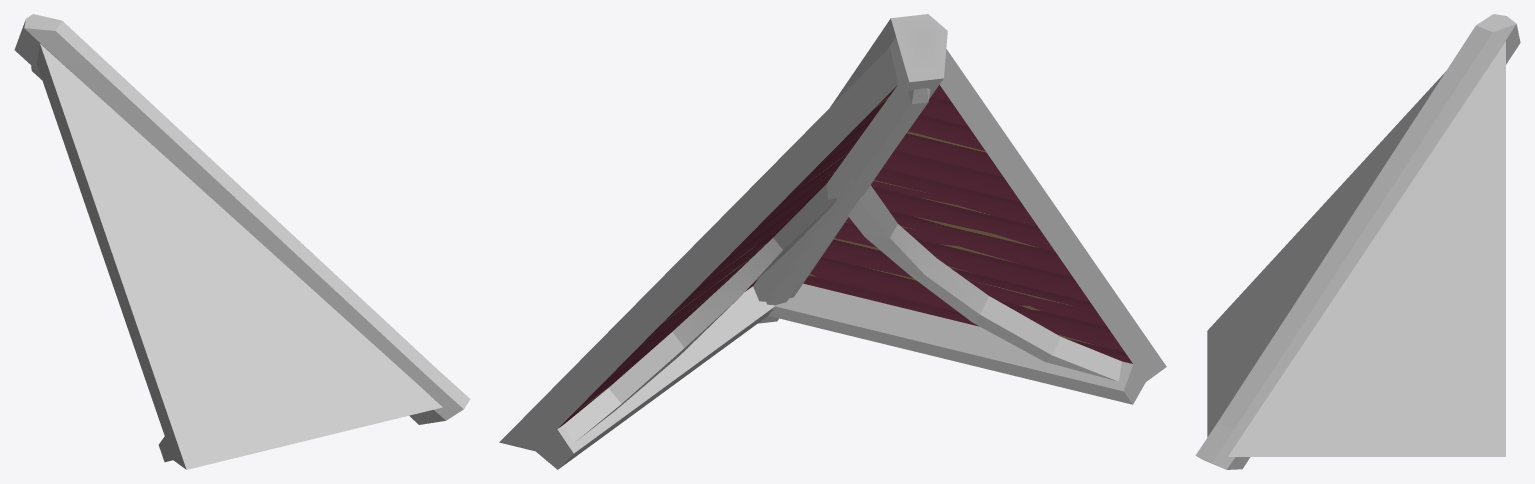
The model's file is SM_Bld_Roof_Straight_Corner_Out_01.fbx.
3 renders of one model, left to right at view 1: azimuth 30°, elevation 25°; view 2: azimuth 150°, elevation 25°; view 3: azimuth 270°, elevation 25°, orthographic. The views are drawn at different scales.
Visible parts, largest first — view 1: SM_Bld_Roof_Straight_Corner_Out_01; view 2: SM_Bld_Roof_Straight_Corner_Out_01; view 3: SM_Bld_Roof_Straight_Corner_Out_01.
Boxes of the visible parts, x1,y1,x2,y2 form: SM_Bld_Roof_Straight_Corner_Out_01: (14,14,470,469); SM_Bld_Roof_Straight_Corner_Out_01: (499,14,1166,469); SM_Bld_Roof_Straight_Corner_Out_01: (1195,14,1520,469).
Bounding box in the file's own units: 285 × 323 × 285.
